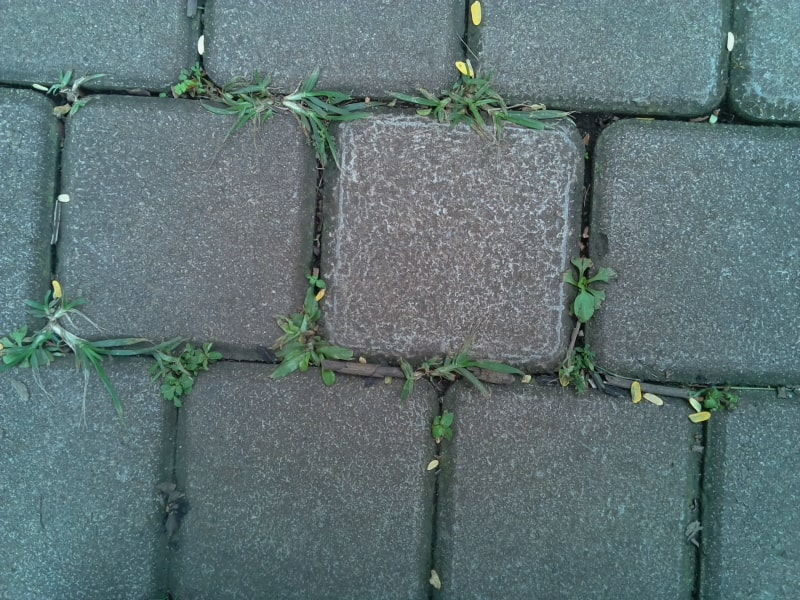Weed: (10, 292, 145, 396), (272, 274, 357, 385), (410, 70, 550, 131), (281, 80, 356, 158), (397, 356, 532, 396), (155, 342, 222, 405), (210, 85, 281, 141), (558, 254, 615, 322), (559, 347, 598, 399), (168, 66, 216, 105), (46, 73, 92, 113), (431, 412, 462, 445), (695, 385, 734, 411)
